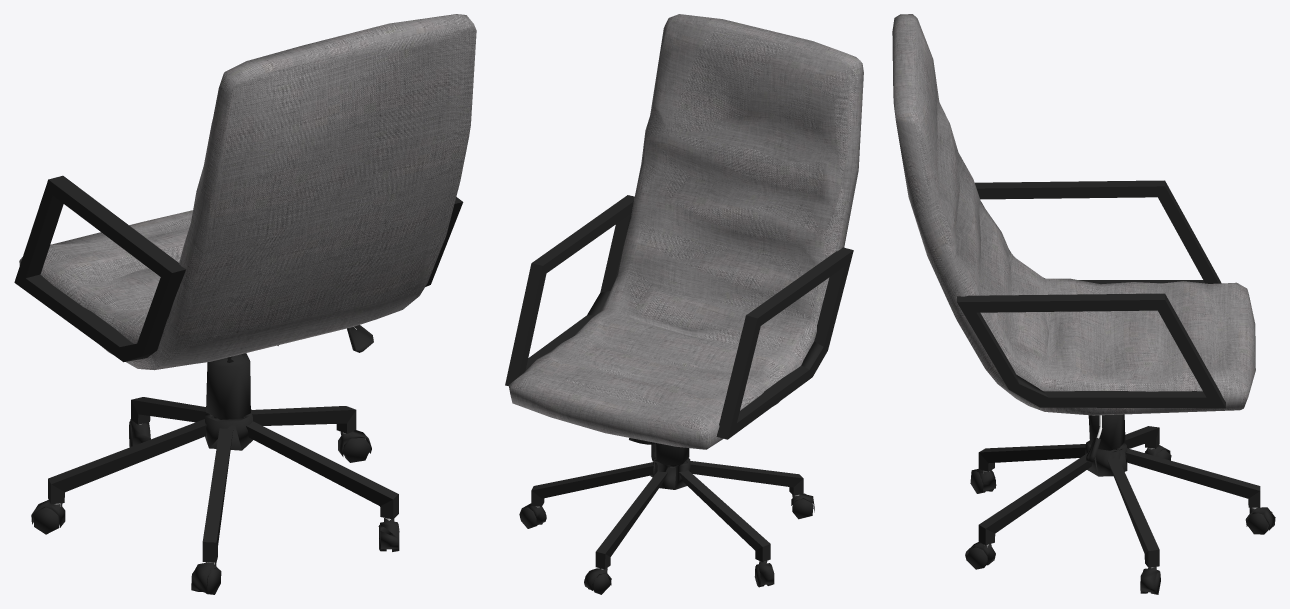
The model's file is Office Chair.fbx.
3 views of the same model, side by side, from view 1: azimuth 30°, elevation 25°; view 2: azimuth 150°, elevation 25°; view 3: azimuth 270°, elevation 25° (orthographic). The views are drawn at different scales.
Visible parts, largest first — view 1: Estelle Desk Swivel Chair; view 2: Estelle Desk Swivel Chair; view 3: Estelle Desk Swivel Chair.
Boxes of the visible parts, x1=… form: Estelle Desk Swivel Chair: x1=14, y1=14, x2=476, y2=594; Estelle Desk Swivel Chair: x1=505, y1=14, x2=863, y2=594; Estelle Desk Swivel Chair: x1=892, y1=14, x2=1275, y2=594.
Size of the model in its own units: 64.54 by 105 by 76.8.
